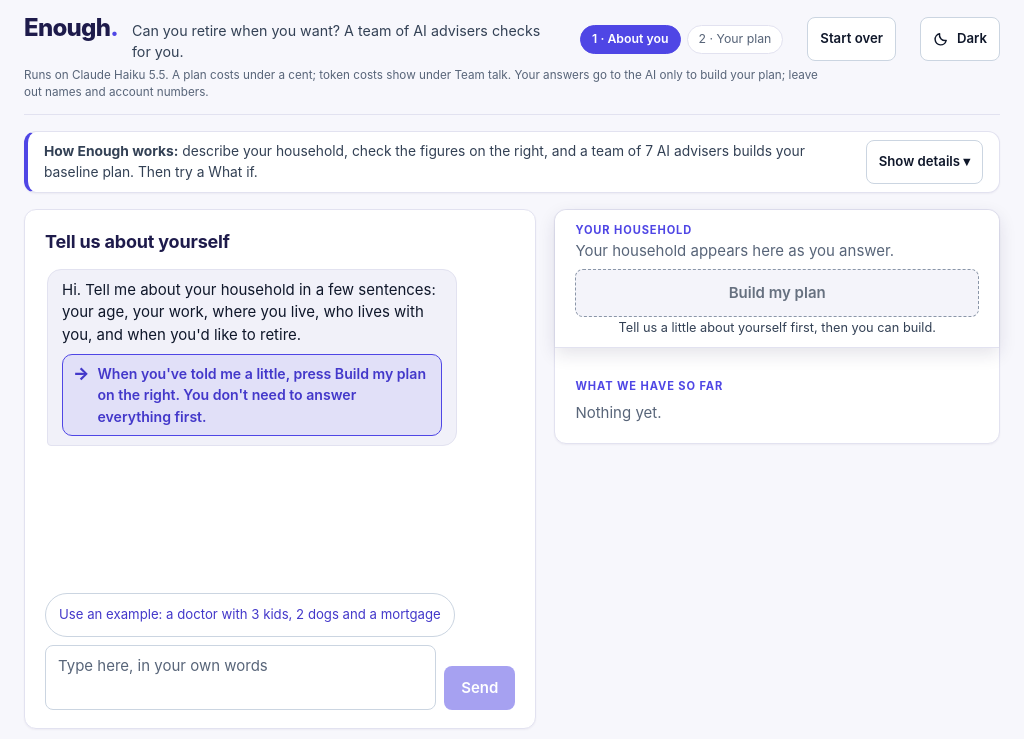
Test: The savings split editor › assumed figures carry a 'check this' tag; estimates do not
This screenshot has width=1024, height=739.
Click the button "Use an example: a doctor with 3 kids, 2 dogs and a mortgage". click: (250, 615)
box: [45,593,455,637]
(page scrolled)
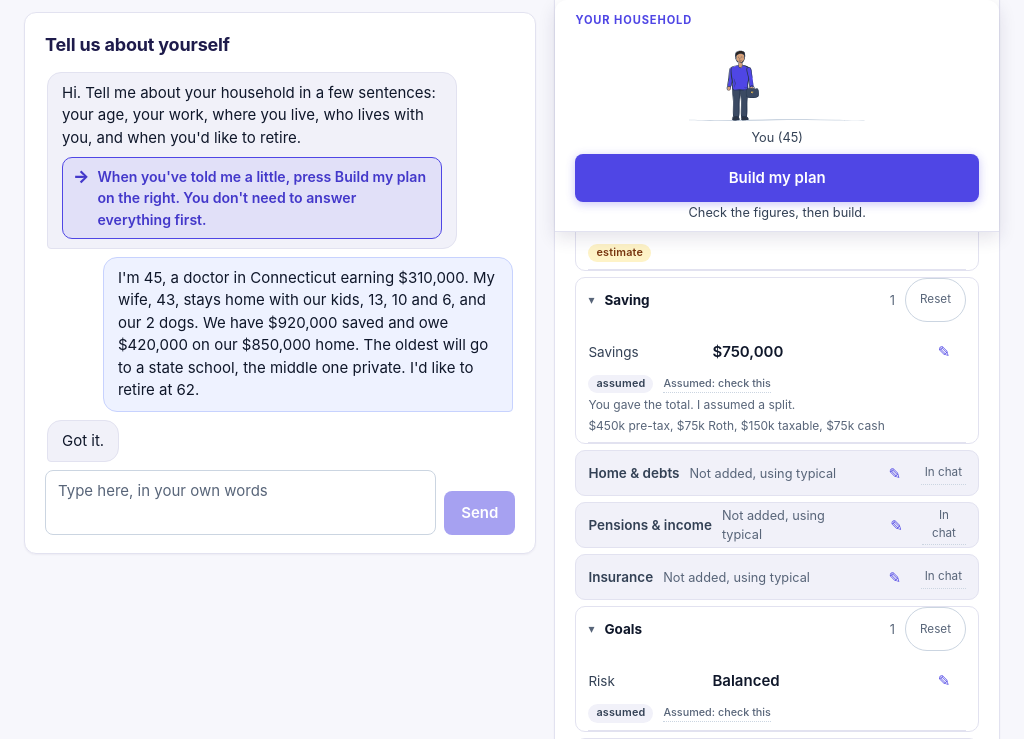
Expected: the text with class "check-tag" below "Savings" reads "Assumed: check this", [663,377,771,390]
